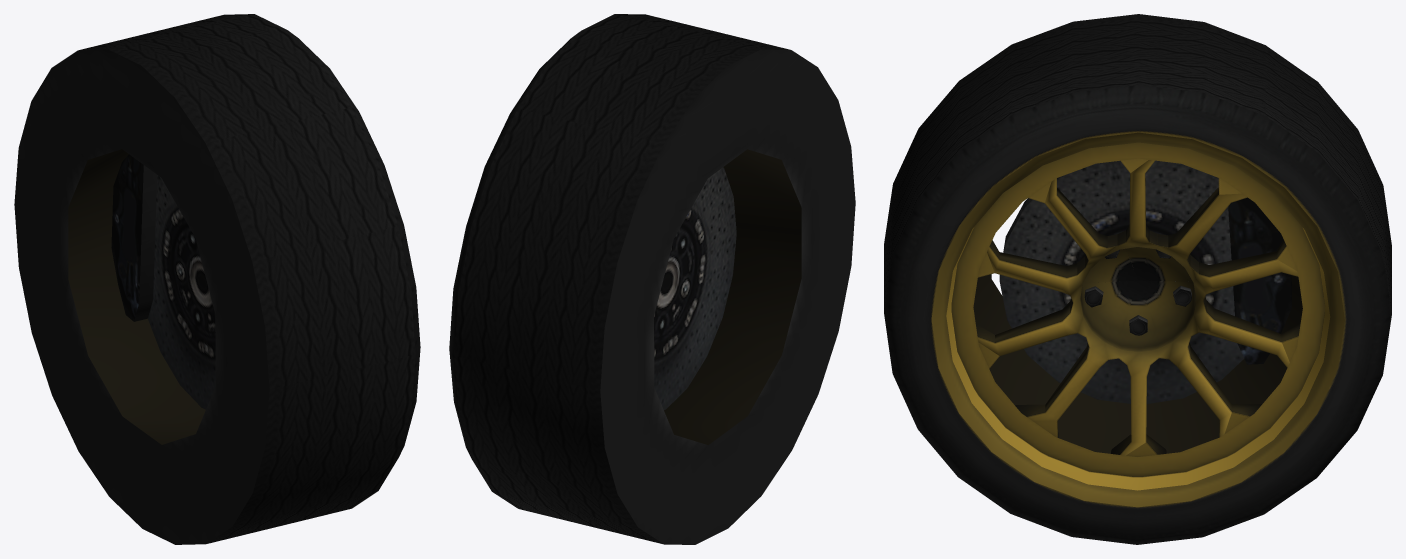
Rendered from WP28_wheelpack.glb.
The picture shows the model from 3 angles, left to right: view 1: azimuth 30°, elevation 25°; view 2: azimuth 150°, elevation 25°; view 3: azimuth 270°, elevation 25°; orthographic projection.
Parts seen in each view (by area): view 1: MOD_ND_WP28_tyre, MOD_ND_WP28_rim, MOD_ND_WP28_brakes; view 2: MOD_ND_WP28_tyre, MOD_ND_WP28_rim, MOD_ND_WP28_brakes; view 3: MOD_ND_WP28_tyre, MOD_ND_WP28_rim, MOD_ND_WP28_brakes.
Boxes of the visible parts, x1,y1,x2,y2 form: MOD_ND_WP28_tyre: (14, 14, 420, 544); MOD_ND_WP28_rim: (68, 149, 205, 444); MOD_ND_WP28_brakes: (111, 154, 215, 409); MOD_ND_WP28_tyre: (449, 14, 855, 544); MOD_ND_WP28_rim: (664, 149, 801, 444); MOD_ND_WP28_brakes: (654, 167, 736, 410); MOD_ND_WP28_tyre: (884, 14, 1391, 544); MOD_ND_WP28_rim: (931, 132, 1344, 507); MOD_ND_WP28_brakes: (999, 160, 1291, 403).
Size of the model in its own units: 0.2272 by 0.6406 by 0.6406.
Materials: 2 (2 with a texture image).
